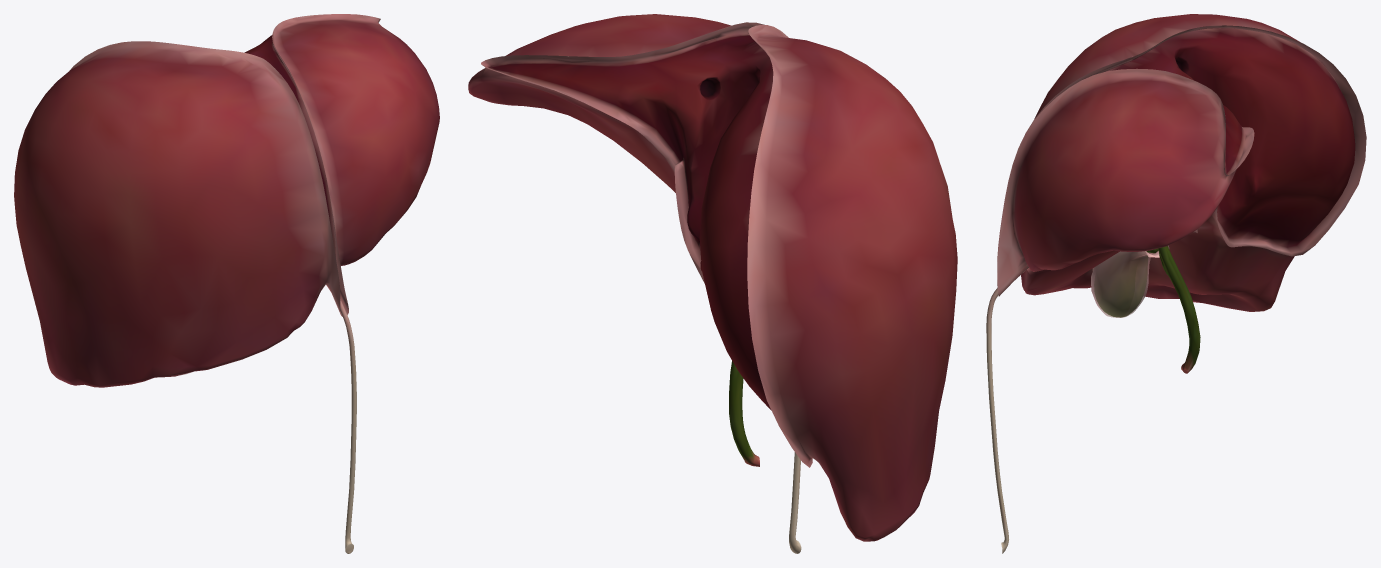
The model's file is liver_cancer.glb.
3 renders of one model, left to right at view 1: azimuth 30°, elevation 25°; view 2: azimuth 150°, elevation 25°; view 3: azimuth 270°, elevation 25°, orthographic. The views are drawn at different scales.
Visible parts, largest first — view 1: Liver [S01907], Falciform Ligament [S01905], Coronary Ligament [S01901], Round Ligament of Liver [S01902]; view 2: Liver [S01907], Coronary Ligament [S01901], Bile Duct [S01897], Right Triangular Ligament [S01904], Left Triangular Ligament [S01900], Round Ligament of Liver [S01902], Falciform Ligament [S01905]; view 3: Liver [S01907], Falciform Ligament [S01905], Coronary Ligament [S01901], Serosa of Gallbladder [S02072], Gallbladder (Anterior Part) [S01898], Round Ligament of Liver [S01902], Bile Duct [S01897], Right Triangular Ligament [S01904], Gallbladder (Posterior Part) [S01899].
Boxes of the visible parts, <box> form: Liver [S01907]: <box>14,19,439,387</box>; Falciform Ligament [S01905]: <box>258,55,348,316</box>; Coronary Ligament [S01901]: <box>69,15,315,70</box>; Round Ligament of Liver [S01902]: <box>340,299,356,553</box>; Liver [S01907]: <box>468,14,957,541</box>; Coronary Ligament [S01901]: <box>555,29,782,399</box>; Bile Duct [S01897]: <box>729,361,759,466</box>; Right Triangular Ligament [S01904]: <box>767,393,812,467</box>; Left Triangular Ligament [S01900]: <box>481,55,571,90</box>; Round Ligament of Liver [S01902]: <box>789,452,801,553</box>; Falciform Ligament [S01905]: <box>716,22,788,38</box>; Liver [S01907]: <box>1014,14,1355,311</box>; Falciform Ligament [S01905]: <box>997,57,1137,296</box>; Coronary Ligament [S01901]: <box>1131,25,1366,248</box>; Serosa of Gallbladder [S02072]: <box>1091,245,1169,317</box>; Gallbladder (Anterior Part) [S01898]: <box>1094,249,1156,317</box>; Round Ligament of Liver [S01902]: <box>986,287,1008,553</box>; Bile Duct [S01897]: <box>1162,256,1200,373</box>; Right Triangular Ligament [S01904]: <box>1265,179,1358,256</box>; Gallbladder (Posterior Part) [S01899]: <box>1129,248,1157,313</box>.
Size of the model in its own units: 7.22 by 8.61 by 6.08.
